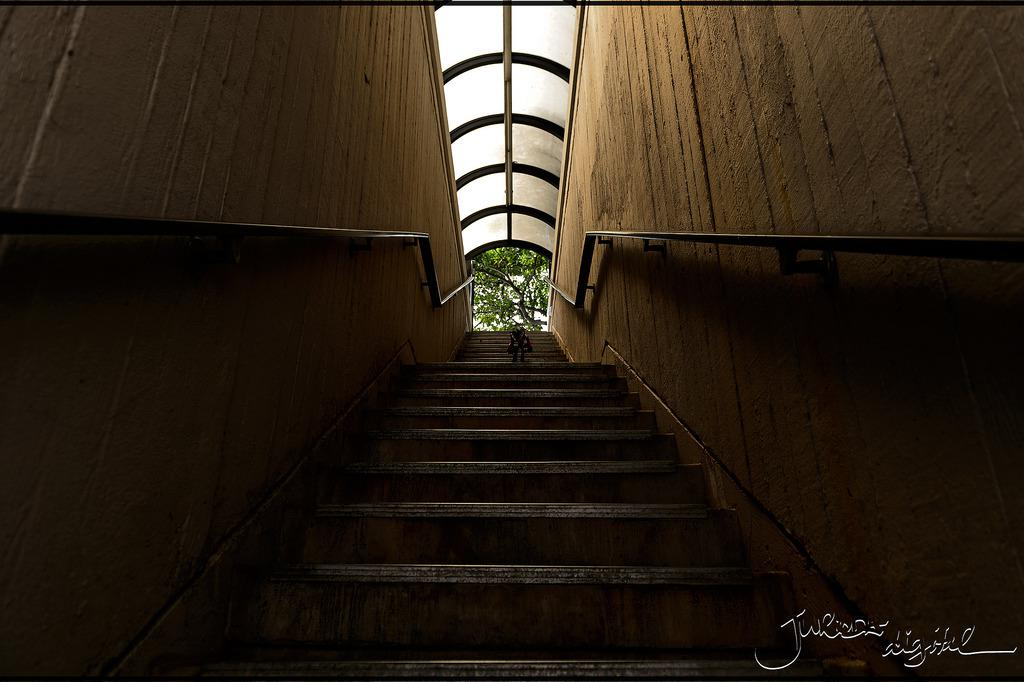stairs: (170, 335, 824, 662)
